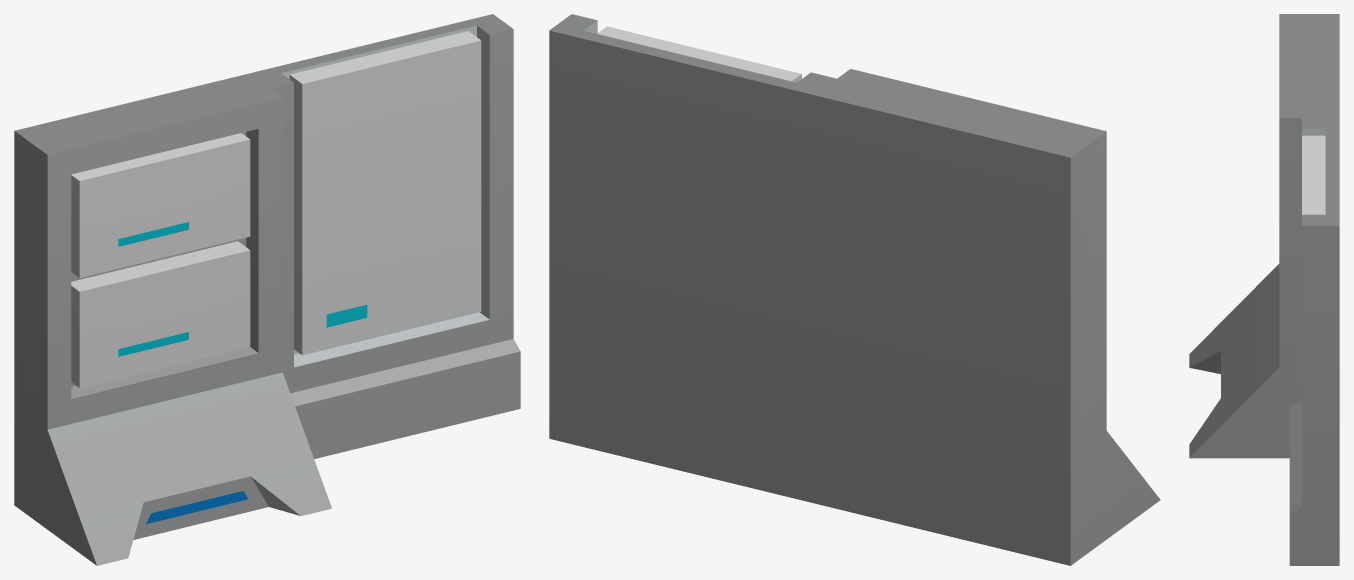
Rendered from Wall_type_A_036.fbx.
3 renders of one model, left to right at view 1: azimuth 30°, elevation 25°; view 2: azimuth 150°, elevation 25°; view 3: azimuth 270°, elevation 25°, orthographic. The views are drawn at different scales.
Visible parts, largest first — view 1: Wall_type_A_036; view 2: Wall_type_A_036; view 3: Wall_type_A_036.
Boxes of the visible parts, x1,y1,x2,y2 form: Wall_type_A_036: (14, 14, 520, 565); Wall_type_A_036: (549, 14, 1160, 565); Wall_type_A_036: (1189, 14, 1339, 565).
Size of the model in its own units: 200 by 60 by 150.
